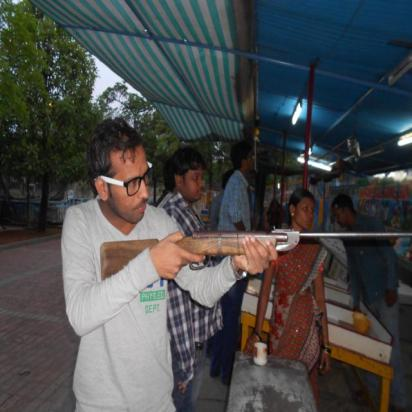Gun: (98, 224, 412, 285)
